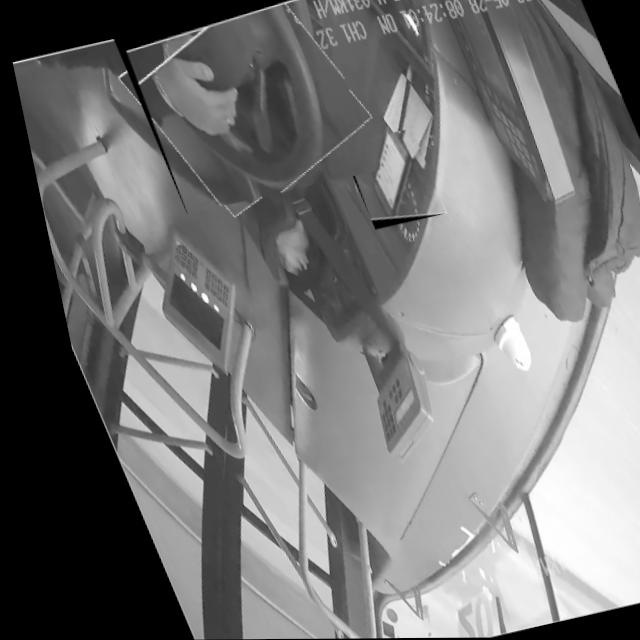phone: (329, 128, 438, 229)
wheel: (103, 0, 380, 213)
